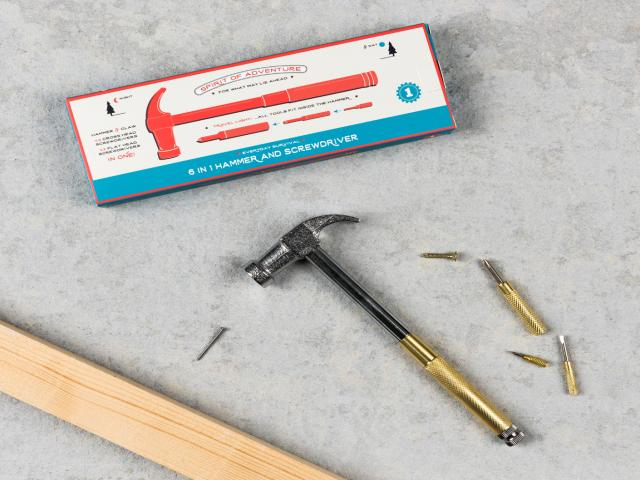Hammer: (244, 215, 524, 446), (146, 71, 378, 158)
Screwdriver: (483, 260, 546, 335), (198, 122, 269, 142), (559, 336, 579, 395), (284, 111, 330, 124), (510, 352, 548, 367)
